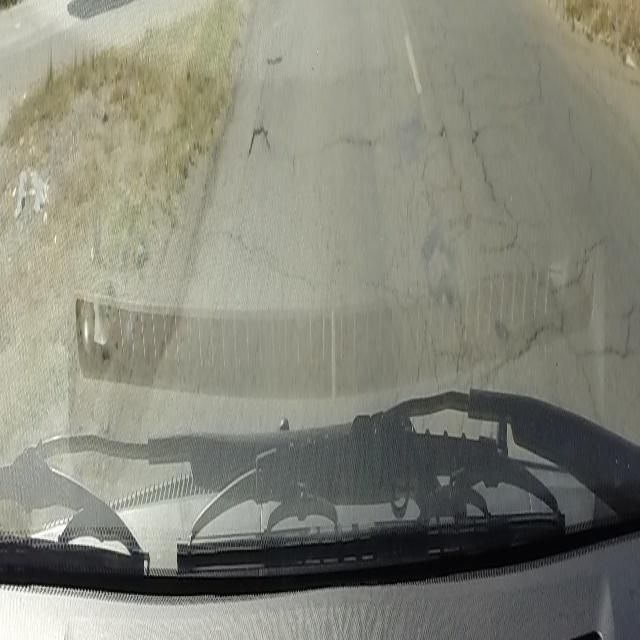pothole: (246, 122, 272, 162)
